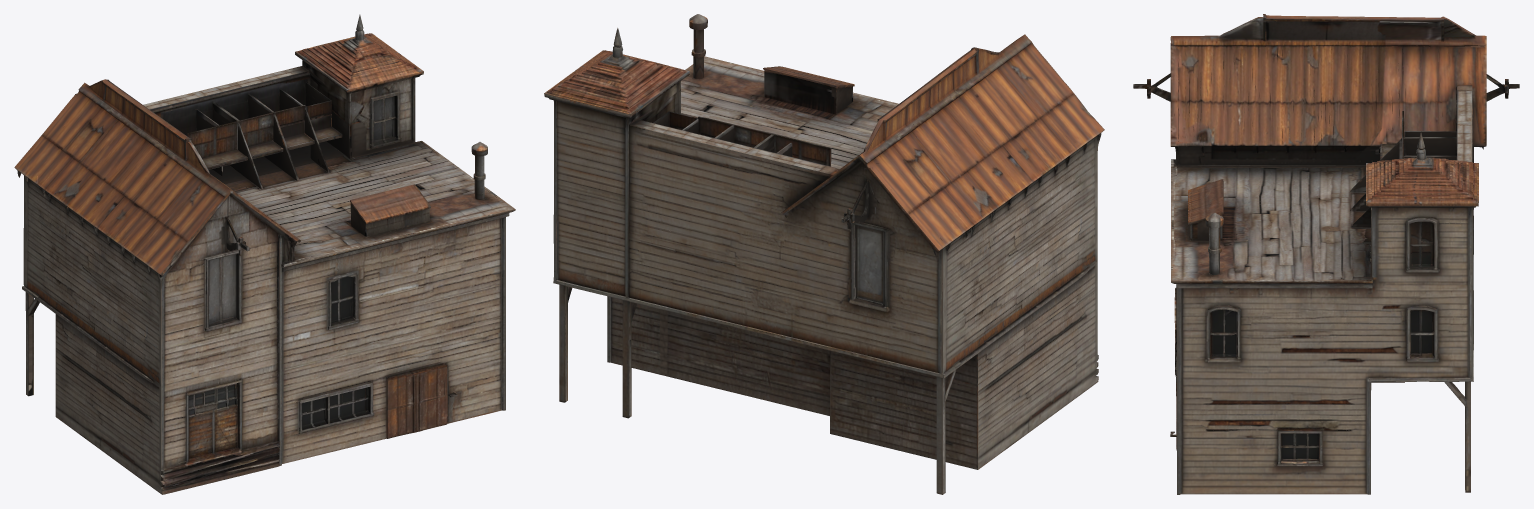
Rendered from oldHouse_2.glb.
3 views of the same model, side by side, from view 1: azimuth 30°, elevation 25°; view 2: azimuth 150°, elevation 25°; view 3: azimuth 270°, elevation 25° (orthographic). The views are drawn at different scales.
Parts seen in each view (by area): view 1: b3; view 2: b3; view 3: b3.
Part boxes in pixels (box(x1,y1,x2,y2)): b3: box(14, 14, 515, 494); b3: box(544, 14, 1104, 494); b3: box(1133, 14, 1519, 494).
Size of the model in its own units: 1.44 by 1.24 by 1.26.
Materials: 1 (1 with a texture image).
